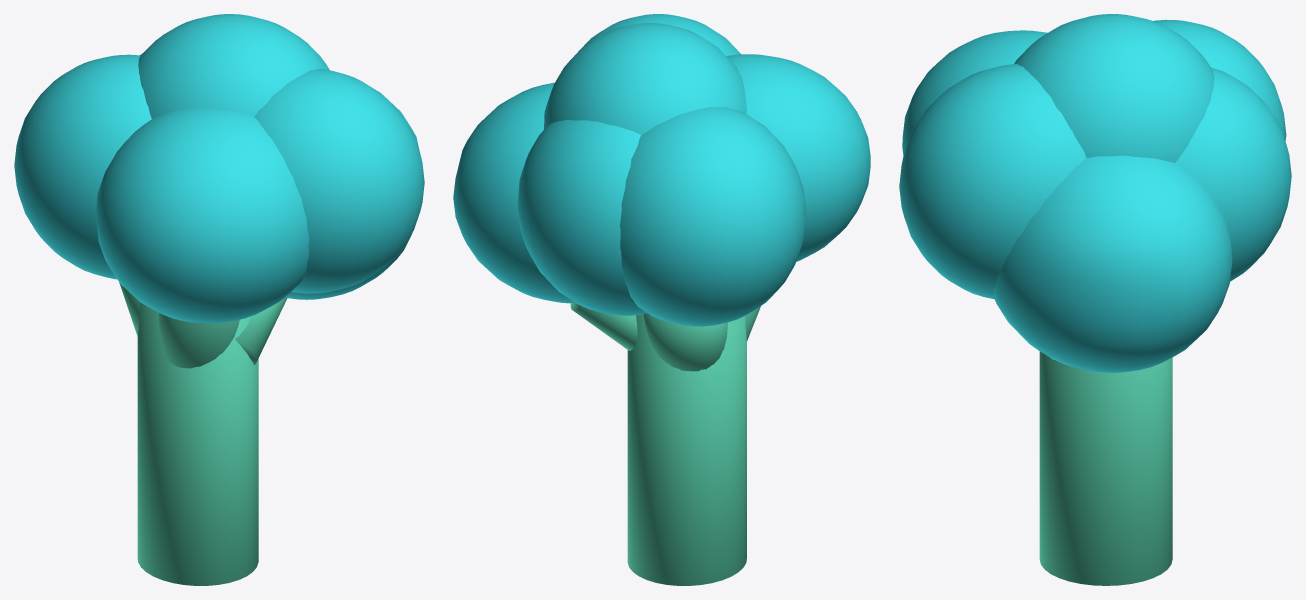
File: Broccoli.glb
The picture shows the model from 3 angles, left to right: view 1: azimuth 30°, elevation 25°; view 2: azimuth 150°, elevation 25°; view 3: azimuth 270°, elevation 25°; orthographic projection. The views are drawn at different scales.
Parts seen in each view (by area): view 1: Sphere, Cylinder, Sphere.005, Sphere.001, Sphere.004, Cylinder.002, Cylinder.003, Sphere.002; view 2: Sphere.001, Cylinder, Sphere.003, Sphere.004, Sphere, Sphere.002, Cylinder.001, Sphere.005, Cylinder.003; view 3: Sphere.002, Cylinder, Sphere.005, Sphere.004, Sphere.003, Sphere, Sphere.001.
Boxes of the visible parts, x1,y1,x2,y2 form: Sphere: [95, 108, 309, 323]; Cylinder: [137, 302, 258, 585]; Sphere.005: [254, 68, 424, 293]; Sphere.001: [14, 54, 151, 279]; Sphere.004: [138, 14, 329, 118]; Cylinder.002: [159, 312, 239, 368]; Cylinder.003: [235, 297, 287, 365]; Sphere.002: [285, 91, 419, 299]; Sphere.001: [620, 107, 806, 326]; Cylinder: [627, 314, 746, 585]; Sphere.003: [517, 120, 647, 315]; Sphere.004: [544, 23, 746, 134]; Sphere: [726, 54, 870, 261]; Sphere.002: [453, 82, 574, 303]; Cylinder.001: [643, 313, 727, 371]; Sphere.005: [578, 14, 740, 55]; Cylinder.003: [570, 302, 637, 350]; Sphere.002: [993, 155, 1232, 372]; Cylinder: [1039, 351, 1172, 585]; Sphere.005: [899, 64, 1086, 299]; Sphere.004: [1014, 14, 1214, 162]; Sphere.003: [1175, 67, 1291, 281]; Sphere: [902, 30, 1047, 155]; Sphere.001: [1153, 19, 1286, 141].
Size of the model in its own units: 2.63 by 3.76 by 2.42.
